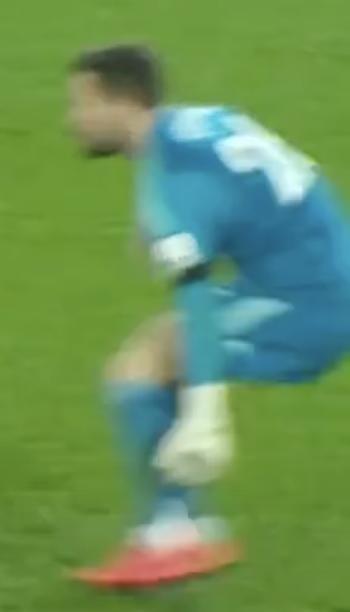goalkeeper: (37, 25, 350, 612)
